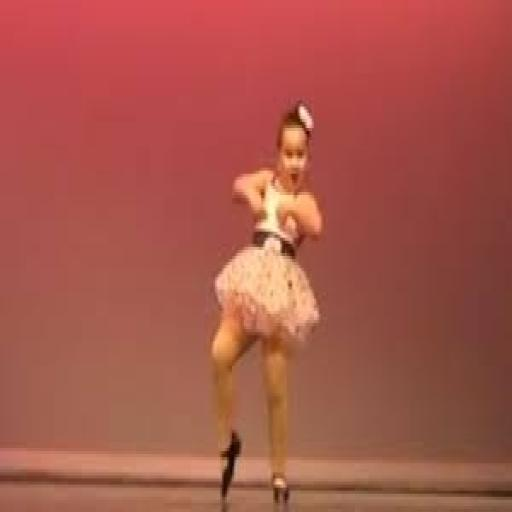dancing: (206, 97, 326, 509)
